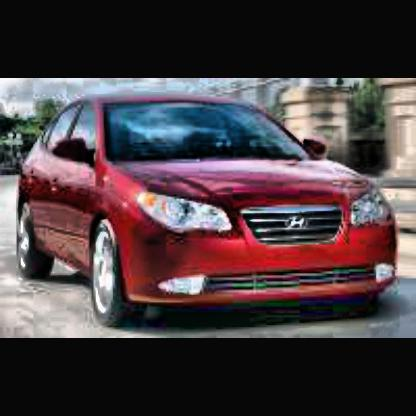Hyundai Elantra Sedan 2007: (14, 96, 405, 333)
